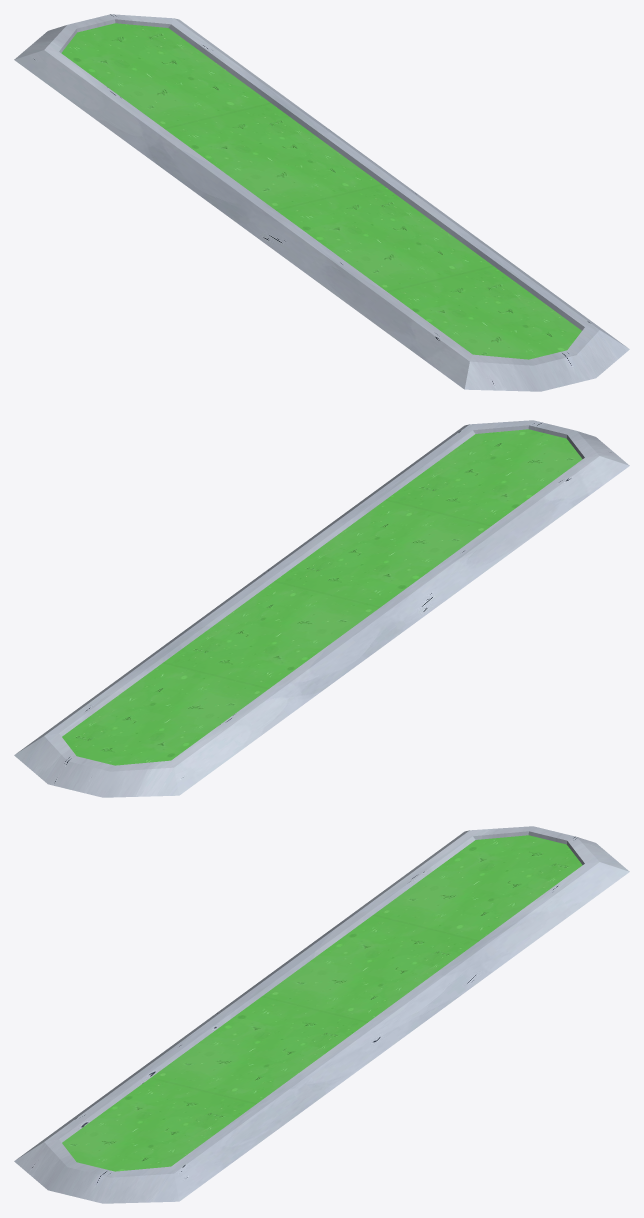
The model's file is trafficmedian.FBX.
The picture shows the model from 3 angles, top to bottom: view 1: azimuth 30°, elevation 25°; view 2: azimuth 150°, elevation 25°; view 3: azimuth 330°, elevation 25°; orthographic projection.
Visible parts, largest first — view 1: median1; view 2: median1; view 3: median1.
Part boxes in pixels (x1,y1,x2,y2): median1: [14, 14, 629, 391]; median1: [14, 420, 629, 797]; median1: [14, 826, 629, 1203].
Bounding box in the file's own units: 1.27 × 0.1116 × 6.58.
